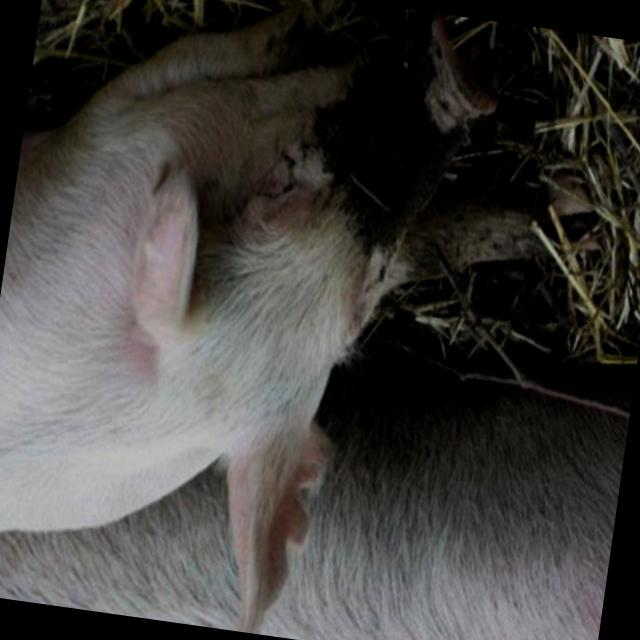pig: (0, 7, 536, 630), (262, 368, 629, 640), (0, 465, 240, 630)
